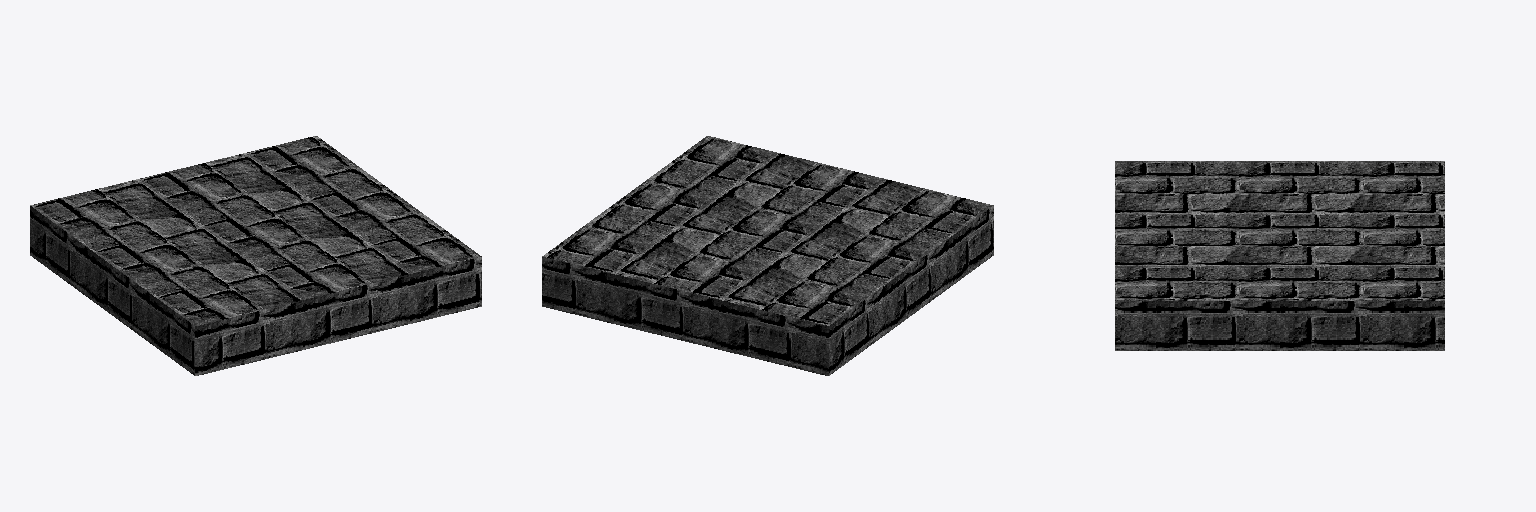
3 views of the same model, side by side, from view 1: azimuth 30°, elevation 25°; view 2: azimuth 150°, elevation 25°; view 3: azimuth 270°, elevation 25° (orthographic).
Visible parts, largest first — view 1: stage_floor_Cube.003; view 2: stage_floor_Cube.003; view 3: stage_floor_Cube.003.
Part boxes in pixels (x1,y1,x2,y2): stage_floor_Cube.003: (30,136,481,375); stage_floor_Cube.003: (542,136,993,375); stage_floor_Cube.003: (1115,161,1444,350).
Bounding box in the file's own units: 12 × 2 × 12.
1 materials, 1 textured.